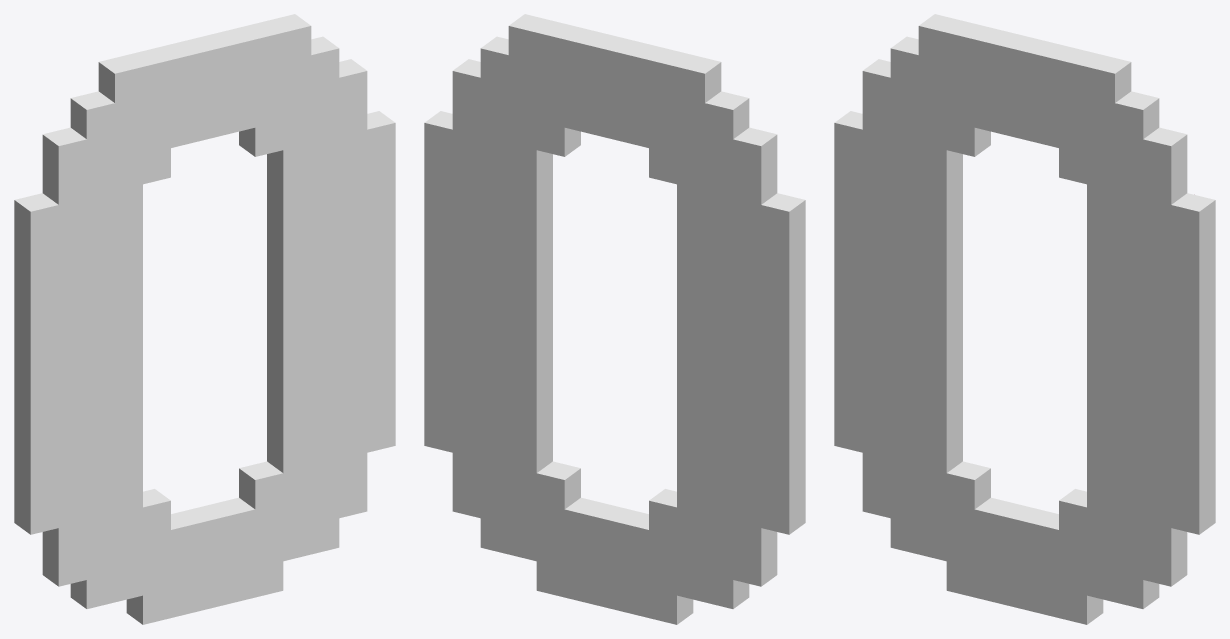
3 views of the same model, side by side, from view 1: azimuth 30°, elevation 25°; view 2: azimuth 150°, elevation 25°; view 3: azimuth 330°, elevation 25° (orthographic).
Parts seen in each view (by area): view 1: box_68; view 2: box_68; view 3: box_68.
Boxes of the visible parts, x1,y1,x2,y2 form: box_68: (14, 14, 395, 624); box_68: (424, 14, 805, 624); box_68: (834, 14, 1215, 624).
Size of the model in its own units: 1.3 by 1.9 by 0.1.
Materials: 1 (1 with a texture image).
